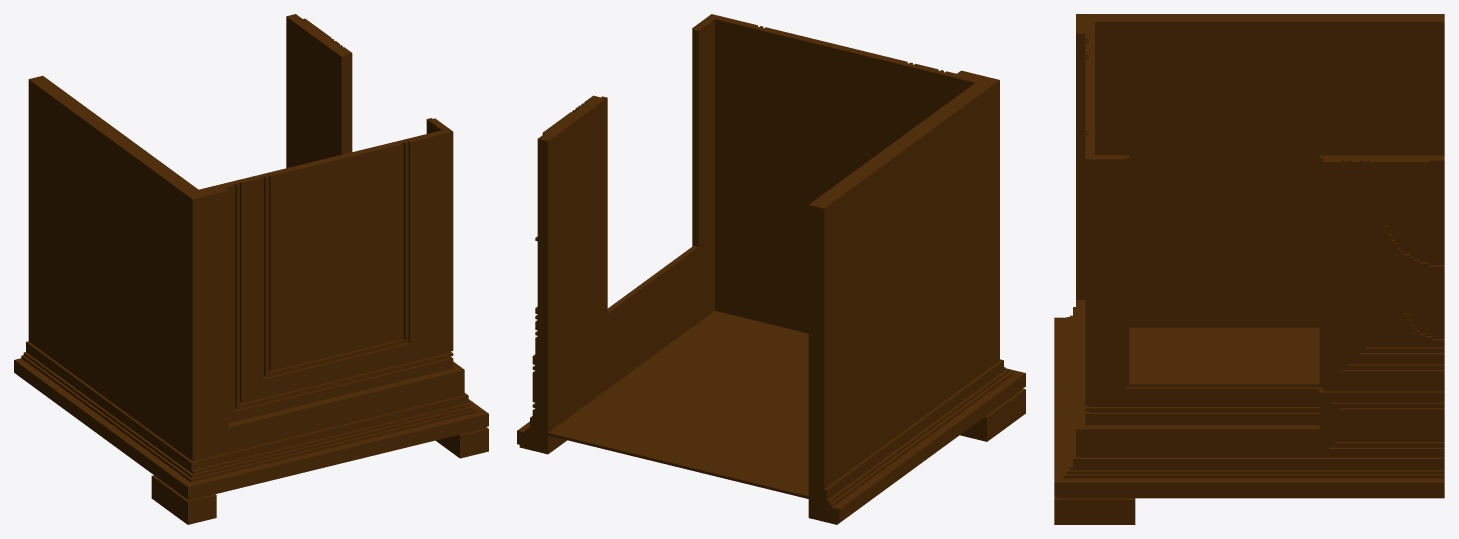
The model's file is armoire_bas_gauche.obj.
The picture shows the model from 3 angles, left to right: view 1: azimuth 30°, elevation 25°; view 2: azimuth 150°, elevation 25°; view 3: azimuth 270°, elevation 25°; orthographic projection. The views are drawn at different scales.
Bounding box in the file's own units: 125 × 125 × 125.
1 material, 1 textured.
